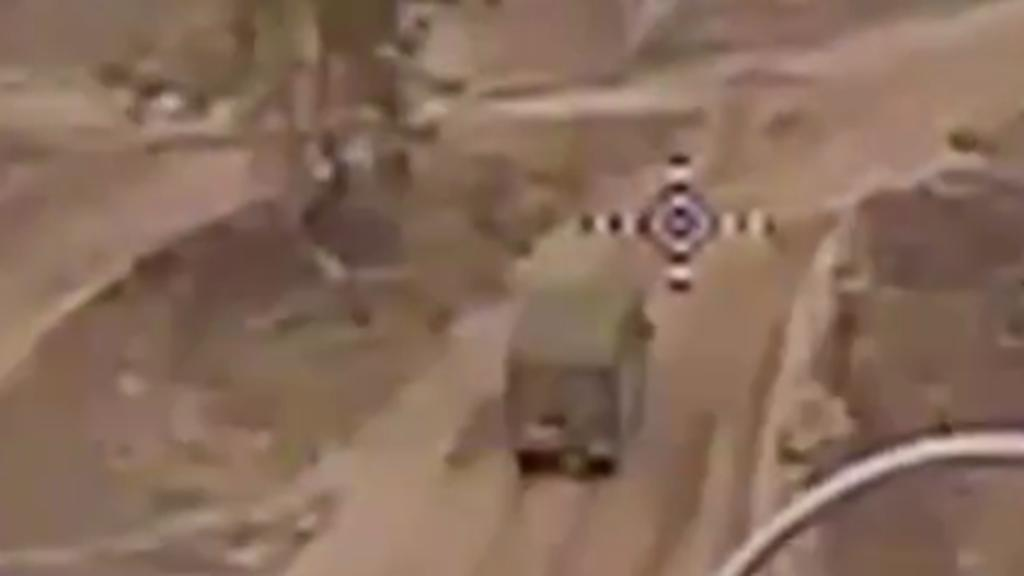CAR: (498, 272, 652, 472)
